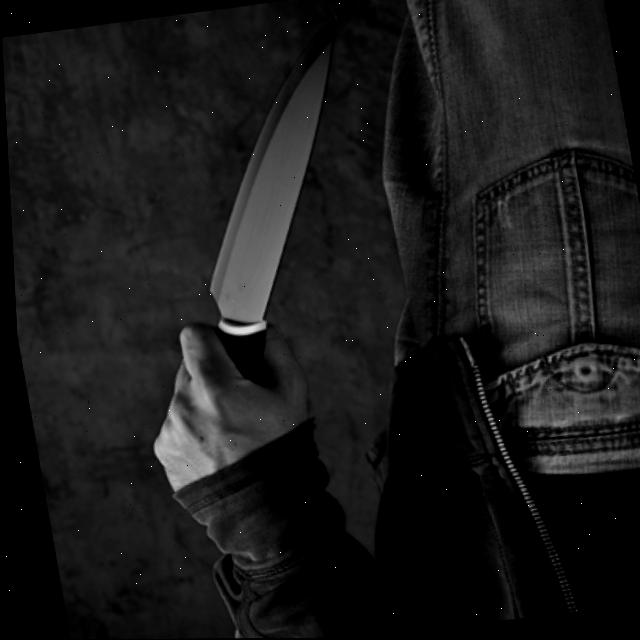knife: (145, 6, 399, 360)
